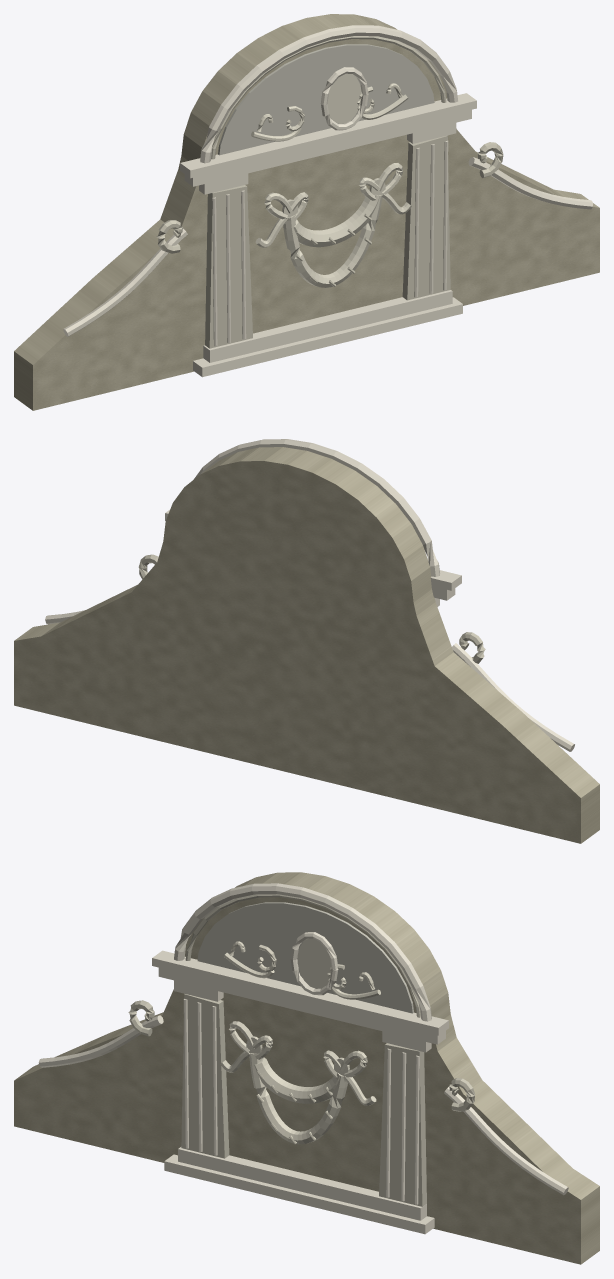
The model's file is fengyang-450-garland-pediment-far.glb.
The picture shows the model from 3 angles, top to bottom: view 1: azimuth 30°, elevation 25°; view 2: azimuth 150°, elevation 25°; view 3: azimuth 330°, elevation 25°; orthographic projection.
Parts seen in each view (by area): view 1: 凤阳路450号小楼半圆山花与绶带花环; view 2: 凤阳路450号小楼半圆山花与绶带花环; view 3: 凤阳路450号小楼半圆山花与绶带花环.
Part boxes in pixels (left/top/right/bottom): 凤阳路450号小楼半圆山花与绶带花环: left=14, top=14, right=599, bottom=410; 凤阳路450号小楼半圆山花与绶带花环: left=14, top=439, right=599, bottom=843; 凤阳路450号小楼半圆山花与绶带花环: left=14, top=872, right=599, bottom=1264.
Bounding box in the file's own units: 6.02 × 3.17 × 0.5478.
5 materials, 1 textured.
